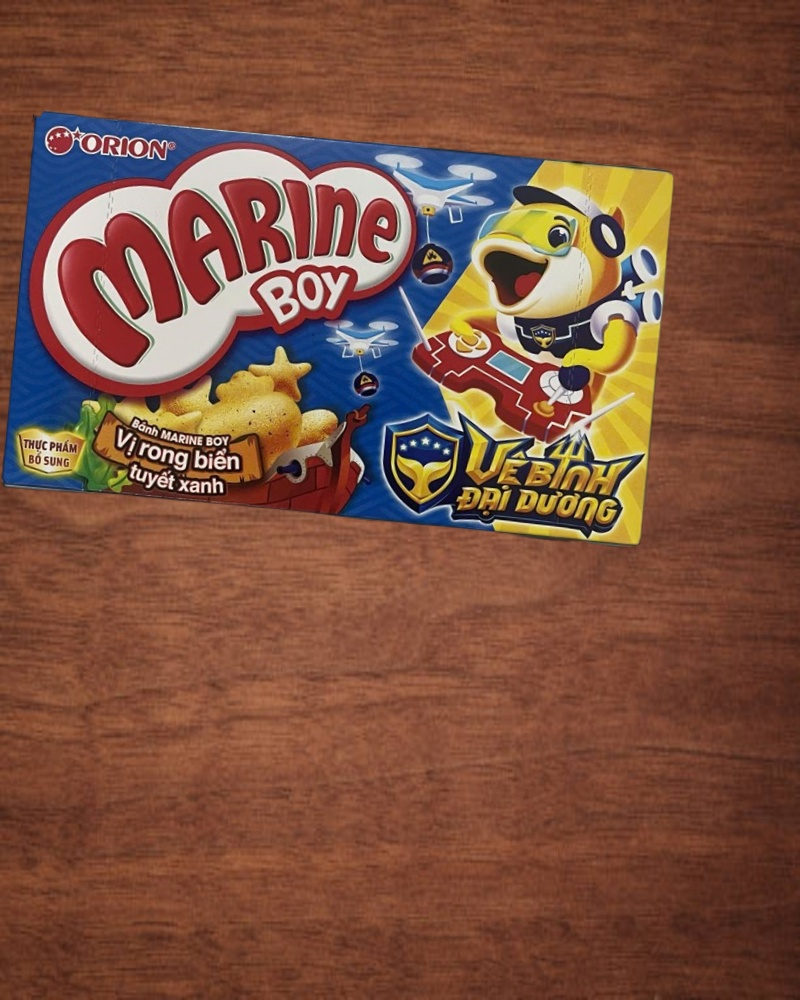Marine: (3, 111, 677, 548)
